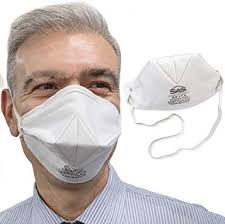masked: (4, 15, 125, 184)
